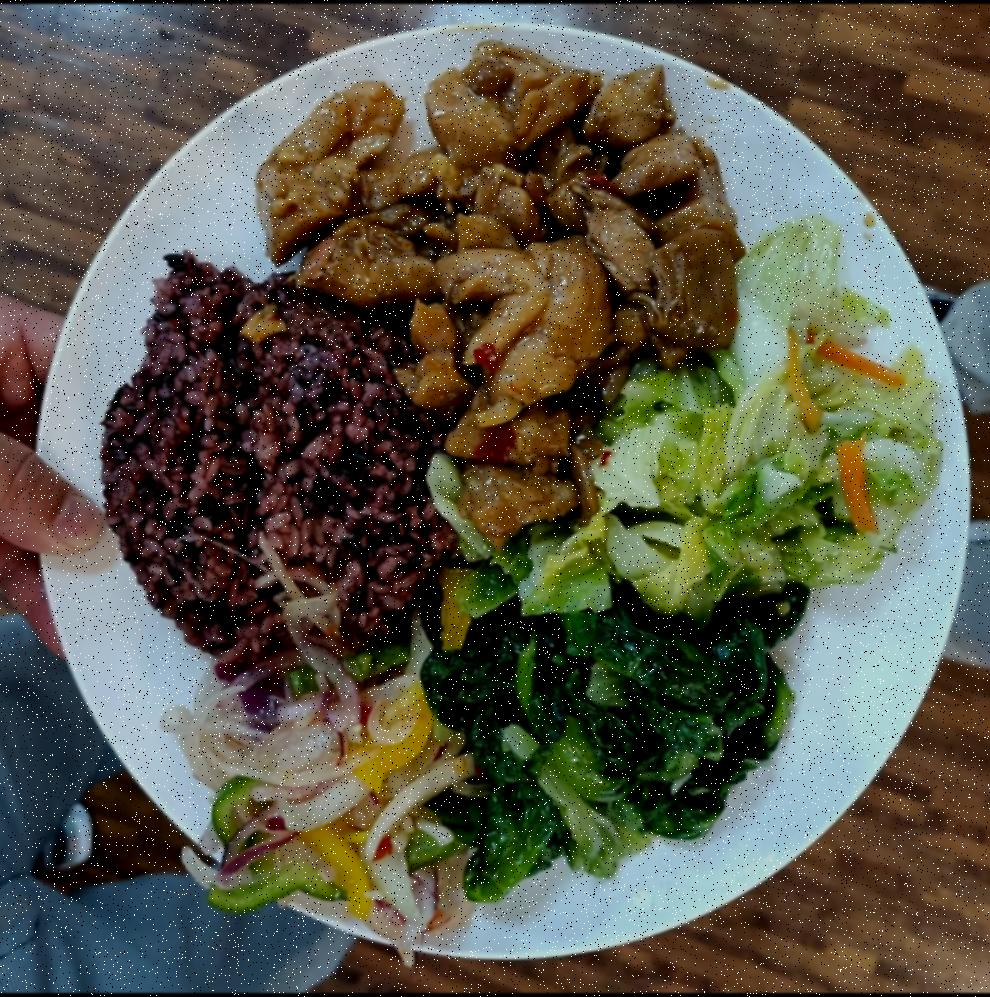plate: (22, 19, 979, 980)
purple rice: (102, 284, 436, 668)
side dish: (557, 326, 929, 649), (440, 614, 807, 880), (178, 670, 480, 924)
three cup chicken: (326, 64, 680, 492)
